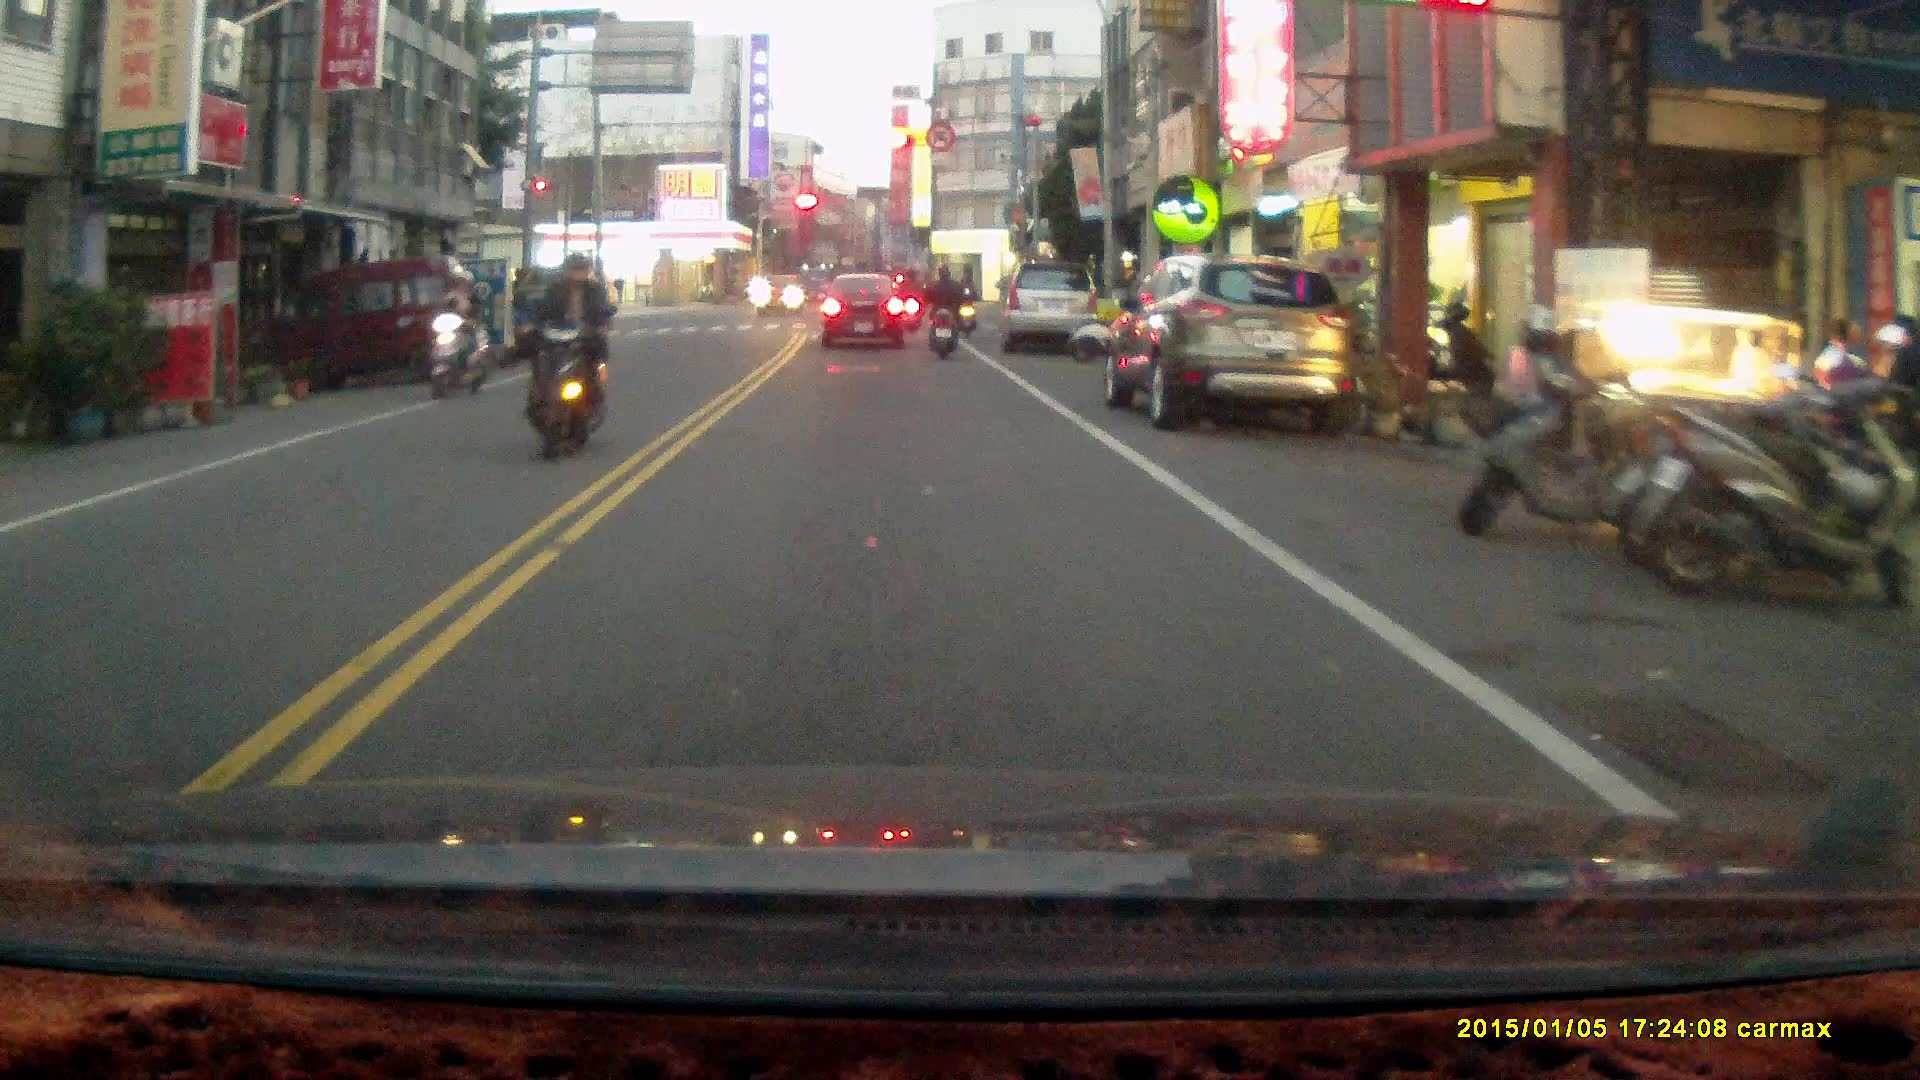pedestrian: (1813, 317, 1872, 470)
rider: (519, 249, 610, 465), (424, 269, 492, 403), (918, 264, 964, 362), (894, 265, 922, 330), (953, 276, 979, 338)
vehicle: (1107, 255, 1356, 440), (270, 254, 485, 397), (1004, 263, 1102, 356), (821, 278, 912, 351)
